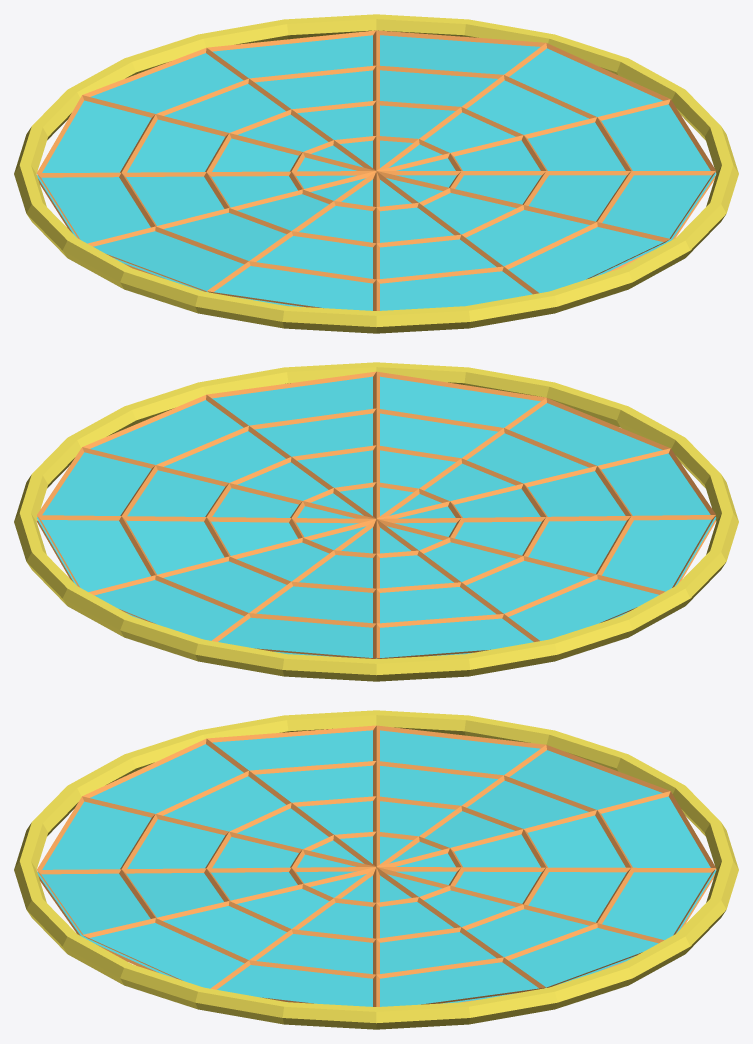
File: throwing_net.glb
The picture shows the model from 3 angles, top to bottom: view 1: azimuth 30°, elevation 25°; view 2: azimuth 150°, elevation 25°; view 3: azimuth 270°, elevation 25°; orthographic projection.
Visible parts, largest first — view 1: ThrowingNet_Stylized; view 2: ThrowingNet_Stylized; view 3: ThrowingNet_Stylized.
Part boxes in pixels (<box>): ThrowingNet_Stylized: <box>14,14,738,333</box>; ThrowingNet_Stylized: <box>14,362,738,681</box>; ThrowingNet_Stylized: <box>14,710,738,1029</box>.
Bounding box in the file's own units: 3.2 × 0.0866 × 3.2.
